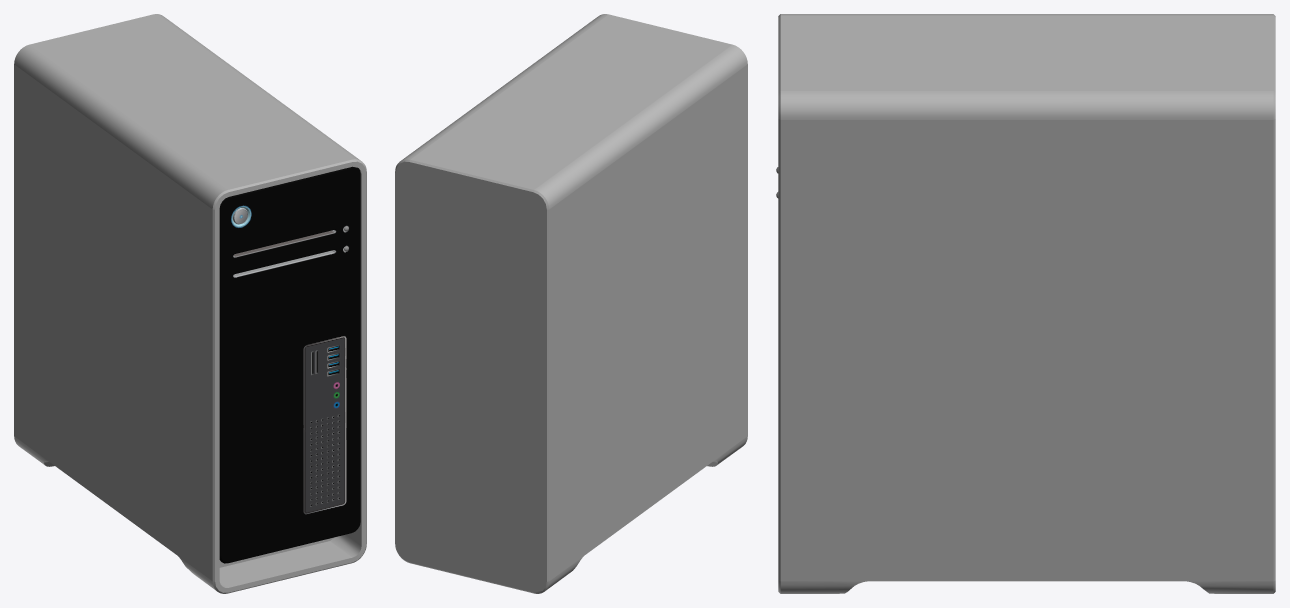
File: CPU.glb
The picture shows the model from 3 angles, left to right: view 1: azimuth 30°, elevation 25°; view 2: azimuth 150°, elevation 25°; view 3: azimuth 270°, elevation 25°; orthographic projection. The views are drawn at different scales.
Parts seen in each view (by area): view 1: 331cf75d-0cc3-4bed-8b93-552ddbe3ec29, 52c9f908-3928-47e5-a116-8b4501f4c843; view 2: 331cf75d-0cc3-4bed-8b93-552ddbe3ec29; view 3: 331cf75d-0cc3-4bed-8b93-552ddbe3ec29.
Boxes of the visible parts, <box> form: 331cf75d-0cc3-4bed-8b93-552ddbe3ec29: <box>14,14,366,593</box>; 52c9f908-3928-47e5-a116-8b4501f4c843: <box>219,166,360,563</box>; 331cf75d-0cc3-4bed-8b93-552ddbe3ec29: <box>395,14,747,593</box>; 331cf75d-0cc3-4bed-8b93-552ddbe3ec29: <box>778,14,1275,593</box>.
Bounding box in the file's own units: 0.1828 × 0.4572 × 0.4131.
3 materials, 1 textured.
